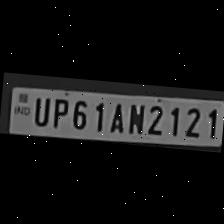1: (88, 97, 108, 131), (202, 104, 221, 138), (163, 103, 182, 136)
2: (180, 102, 204, 138), (143, 100, 166, 136)
6: (66, 94, 90, 130)
A: (104, 98, 127, 134)
N: (123, 100, 144, 134)
P: (48, 94, 68, 129)
U: (28, 91, 50, 126)
